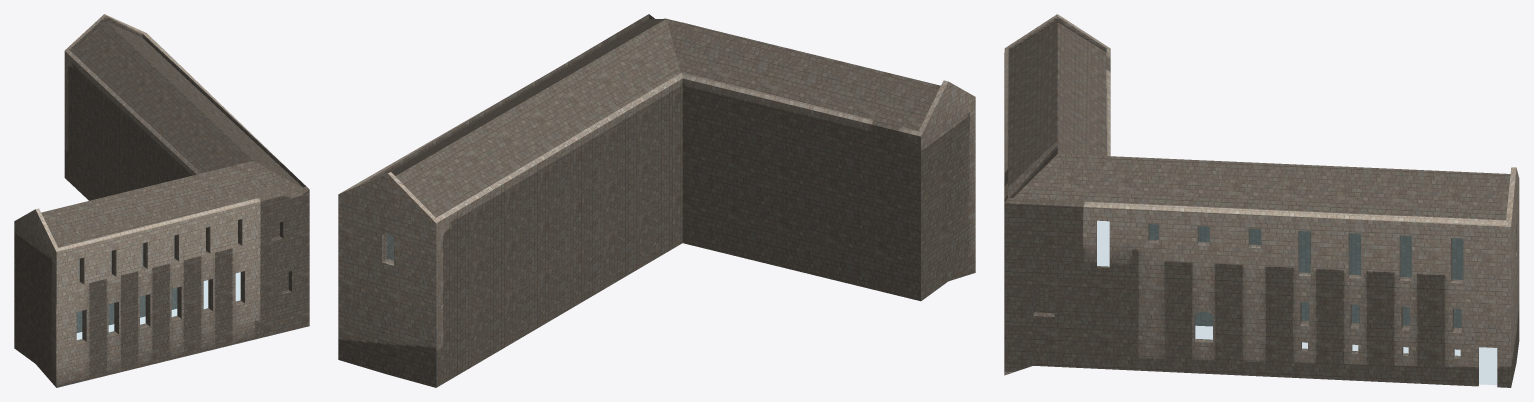
Rendered from Edificio_Archivo_3D_Test.glb.
The picture shows the model from 3 angles, left to right: view 1: azimuth 30°, elevation 25°; view 2: azimuth 150°, elevation 25°; view 3: azimuth 270°, elevation 25°; orthographic projection. The views are drawn at different scales.
Parts seen in each view (by area): view 1: 01; view 2: 01; view 3: 01.
Boxes of the visible parts, x1=… form: 01: x1=14, y1=14, x2=309, y2=387; 01: x1=338, y1=14, x2=975, y2=387; 01: x1=1004, y1=14, x2=1519, y2=387.
Bounding box in the file's own units: 0.6617 × 0.3562 × 0.8038.
2 materials, 2 textured.
